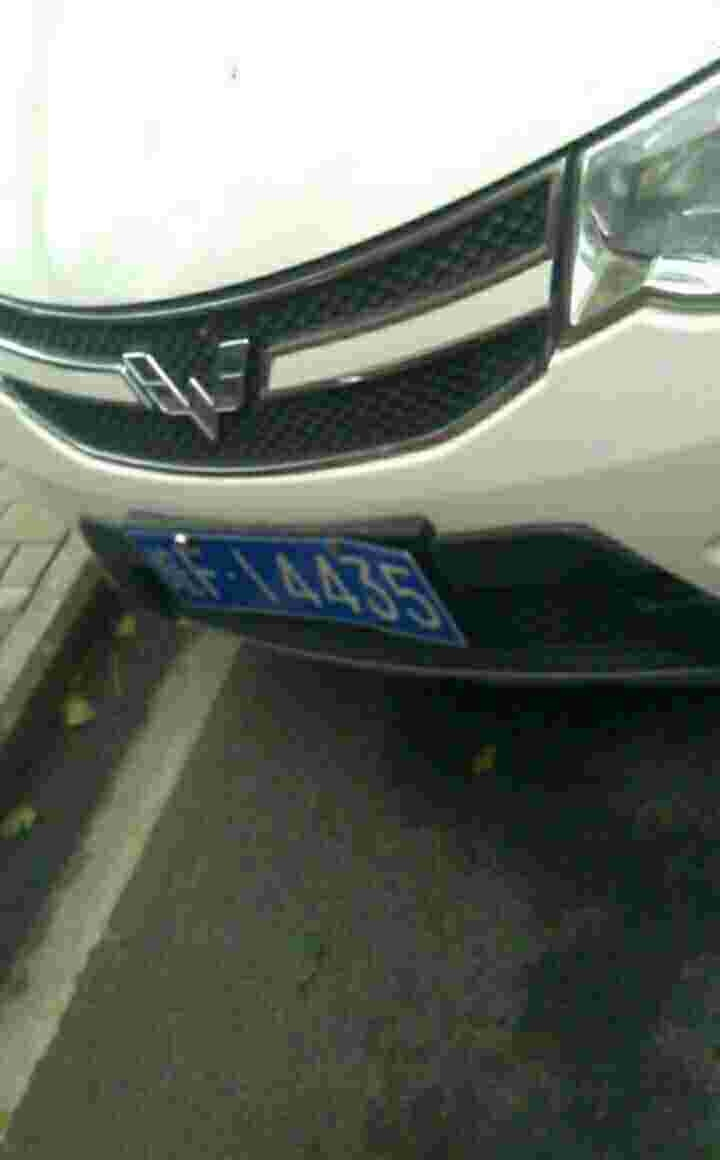license_plate: (128, 531, 466, 632)
